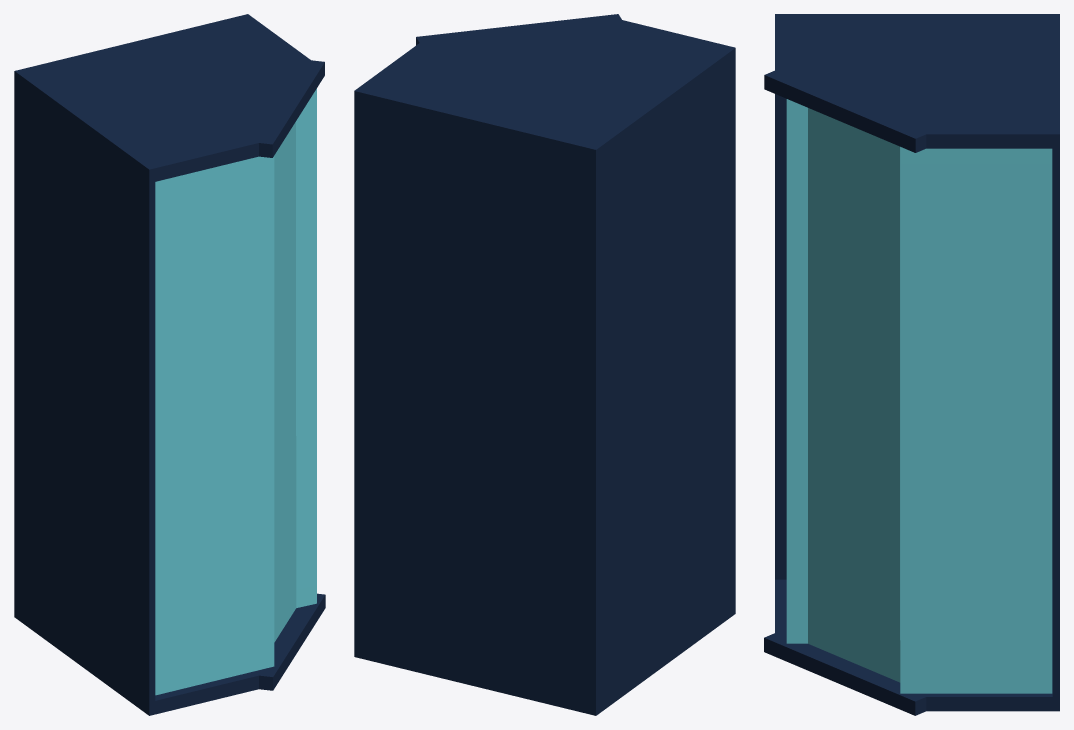
The model's file is simplified_shower.glb.
3 views of the same model, side by side, from view 1: azimuth 30°, elevation 25°; view 2: azimuth 150°, elevation 25°; view 3: azimuth 270°, elevation 25° (orthographic). The views are drawn at different scales.
Visible parts, largest first — view 1: Shower, Inner_Shower; view 2: Shower; view 3: Inner_Shower, Shower.
Part boxes in pixels (x1,y1,x2,y2): Shower: (14,14,325,715); Inner_Shower: (155,88,316,695); Shower: (354,14,735,715); Inner_Shower: (786,99,1052,693); Shower: (764,14,1059,715).
Size of the model in its own units: 0.8827 by 1.9 by 0.8827.
